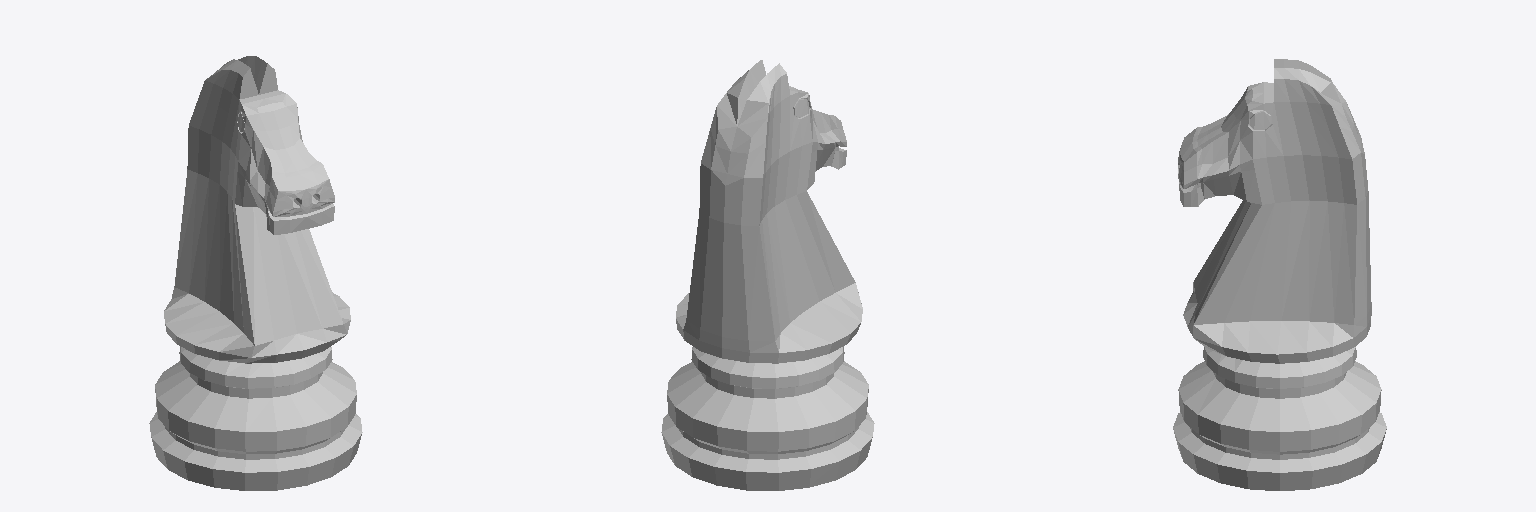
The model's file is blackHorse.obj.
3 renders of one model, left to right at view 1: azimuth 30°, elevation 25°; view 2: azimuth 150°, elevation 25°; view 3: azimuth 270°, elevation 25°, orthographic.
Visible parts, largest first — view 1: blackHorse:pCylinder34; view 2: blackHorse:pCylinder34; view 3: blackHorse:pCylinder34.
Boxes of the visible parts, x1=… form: blackHorse:pCylinder34: x1=149, y1=56, x2=362, y2=490; blackHorse:pCylinder34: x1=661, y1=60, x2=874, y2=490; blackHorse:pCylinder34: x1=1173, y1=59, x2=1386, y2=490.
Bounding box in the file's own units: 4.74 × 9.4 × 4.74.